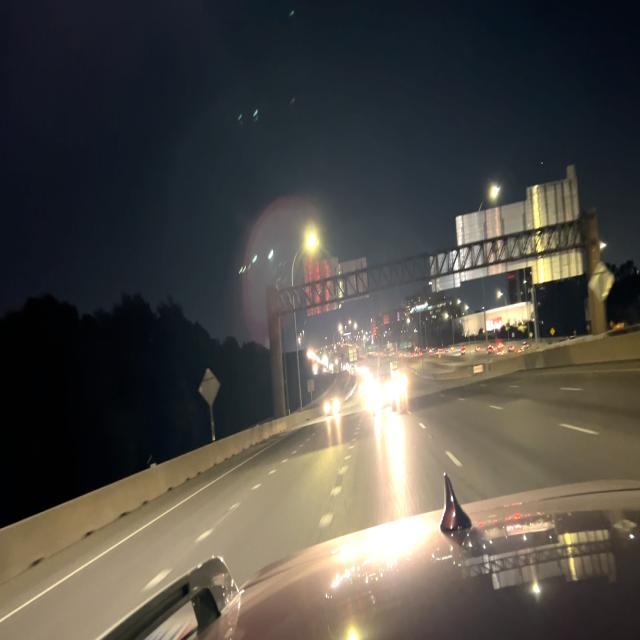back-of-sign: (428, 169, 584, 293), (304, 255, 369, 317), (589, 256, 615, 304), (198, 366, 221, 407), (306, 376, 317, 397)
